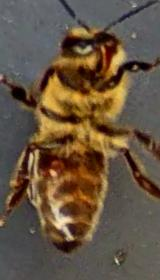varroa_mite: (39, 152, 78, 184)
